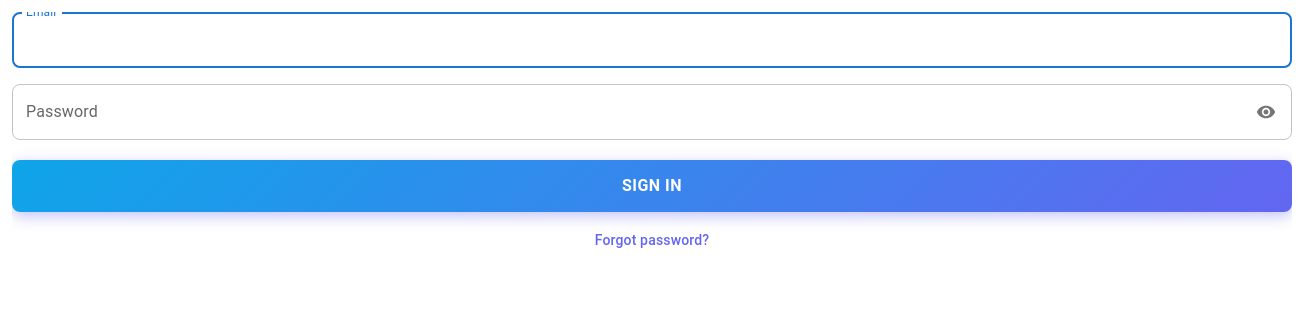
Test case: LoginForm › shows validation errors when submitting empty form
Step 1. Click the button "Sign In" → (652, 186), box [12,160,1292,212]
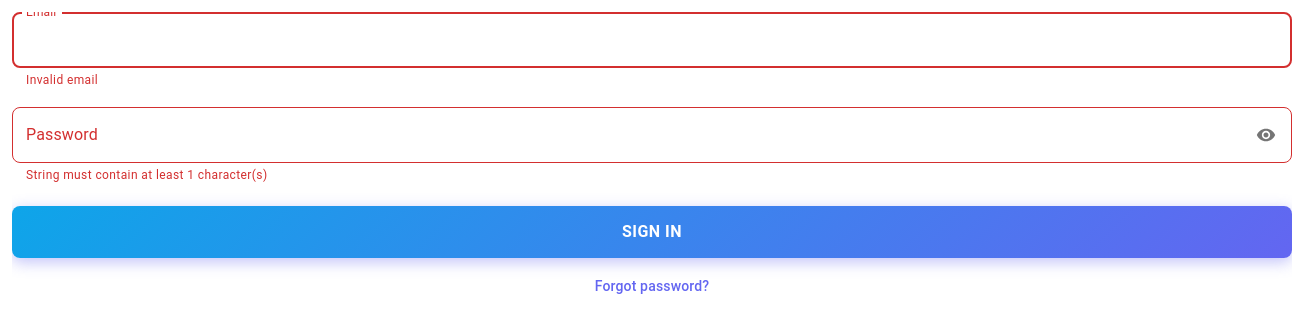
Expected: the text "Invalid email" is shown, [26,73,98,87]
Expected: the text "String must contain at least 1 character(s)" is shown, [26,168,268,182]
